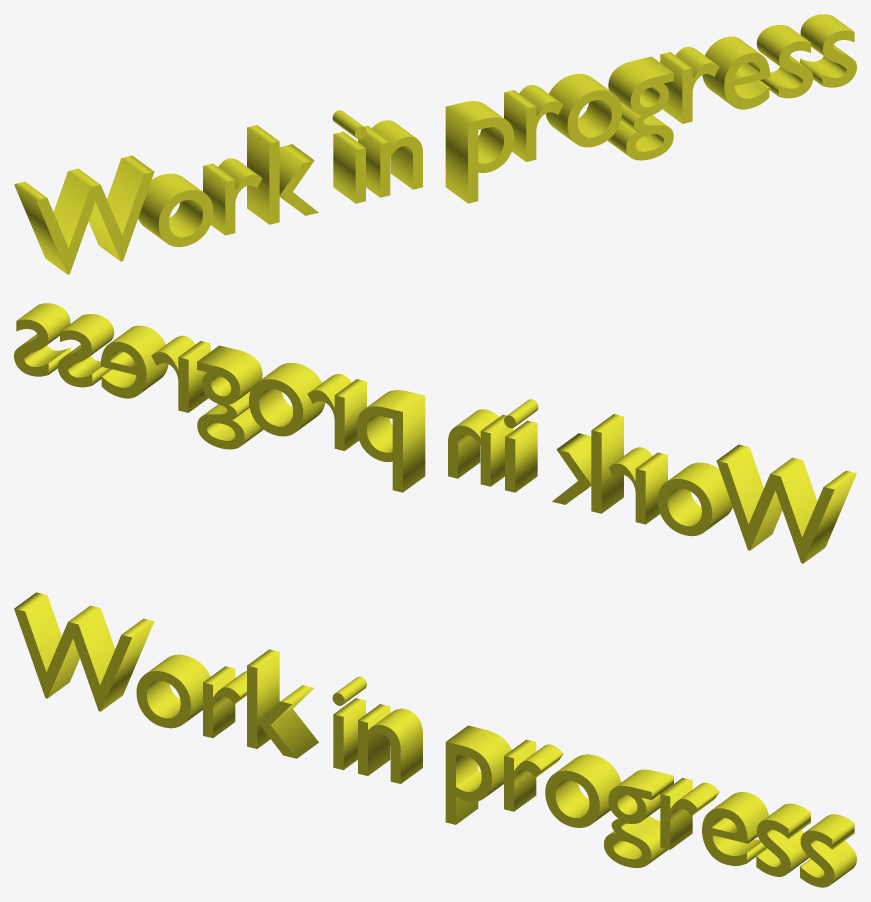
The model's file is WorkText.gltf.
The picture shows the model from 3 angles, top to bottom: view 1: azimuth 30°, elevation 25°; view 2: azimuth 150°, elevation 25°; view 3: azimuth 330°, elevation 25°; orthographic projection.
Visible parts, largest first — view 1: Text; view 2: Text; view 3: Text.
Part boxes in pixels (x1=…): Text: x1=14, y1=14, x2=856, y2=274; Text: x1=14, y1=303, x2=856, y2=563; Text: x1=14, y1=592, x2=856, y2=887.
Bounding box in the file's own units: 7.86 × 0.9923 × 0.3699.
